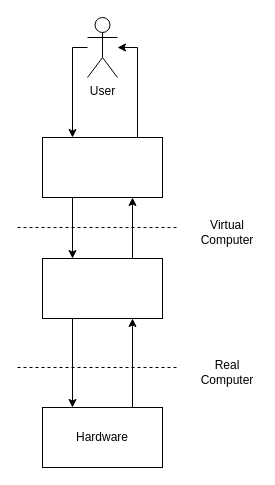
The diagram is 275 pixels wide and 485 high, and some of its shapes have lost their labels. The shapes that lost their labels are listed below. From the top down, each one's centre as x and y in pixels, then its label:
(102,167): APP
(102,288): OS
